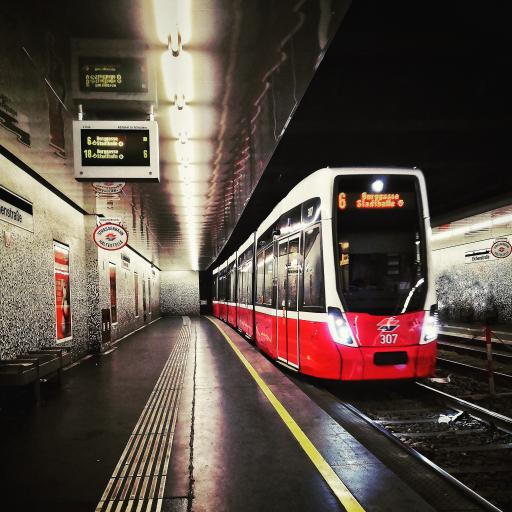Flexity: (211, 161, 443, 399)
